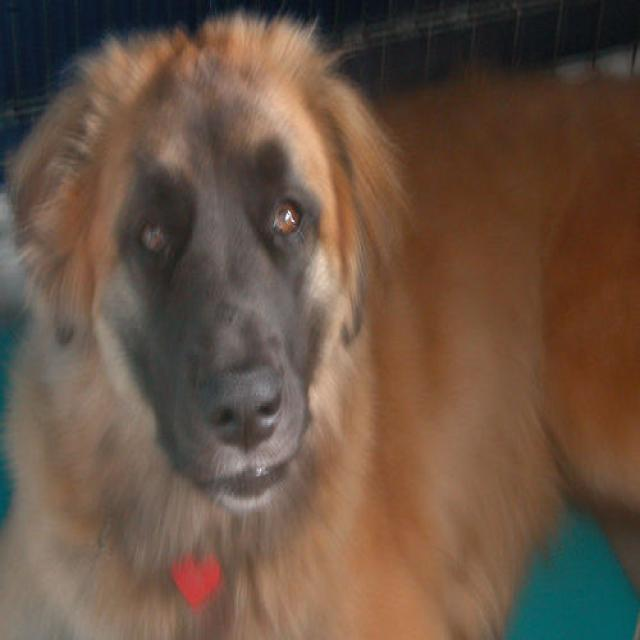dog-leonberger: (1, 2, 637, 637)
